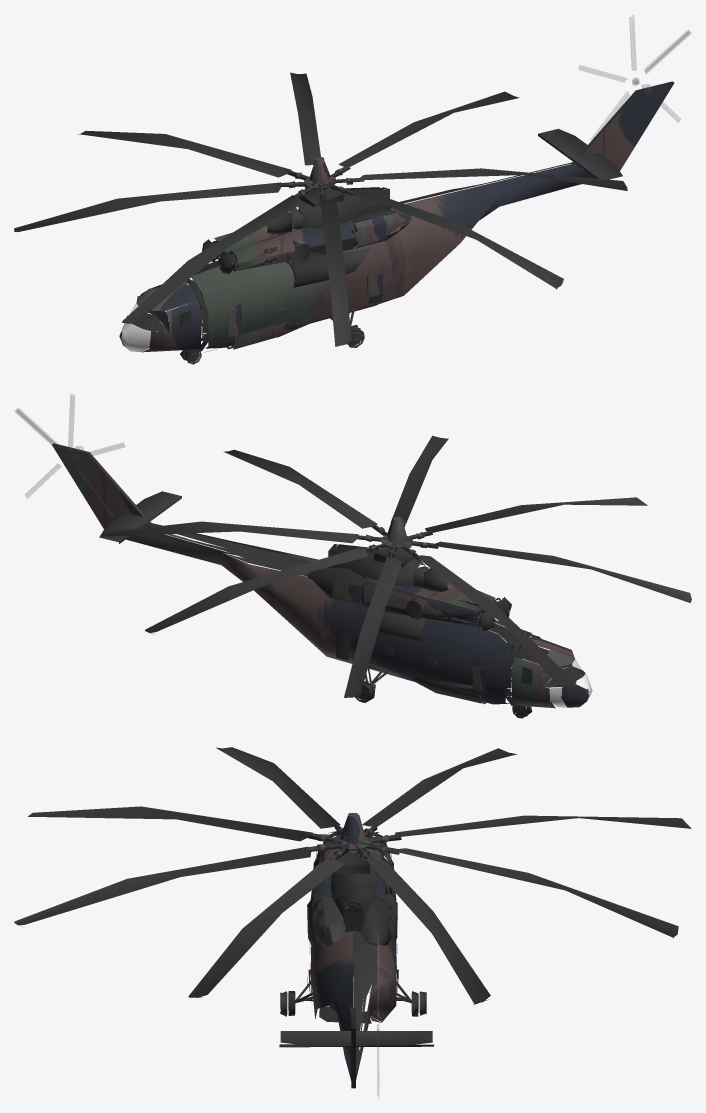
3 views of the same model, one above another, from view 1: azimuth 30°, elevation 25°; view 2: azimuth 150°, elevation 25°; view 3: azimuth 270°, elevation 25° (orthographic). The views are drawn at different scales.
Visible parts, largest first — view 1: Object_4; view 2: Object_4; view 3: Object_4.
Boxes of the visible parts, box(x1,y1,x2,y2) form: Object_4: box(14, 15, 691, 364); Object_4: box(14, 394, 691, 718); Object_4: box(14, 747, 691, 1098).
Bounding box in the file's own units: 12.38 × 4.29 × 9.8.
Materials: 4 (3 with a texture image).
